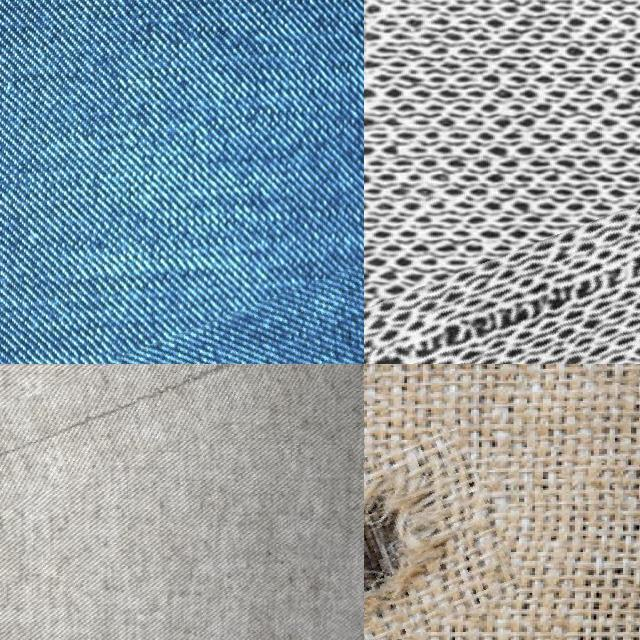Thread_other: (364, 224, 640, 364), (0, 364, 364, 465)
seam: (364, 442, 510, 640)
